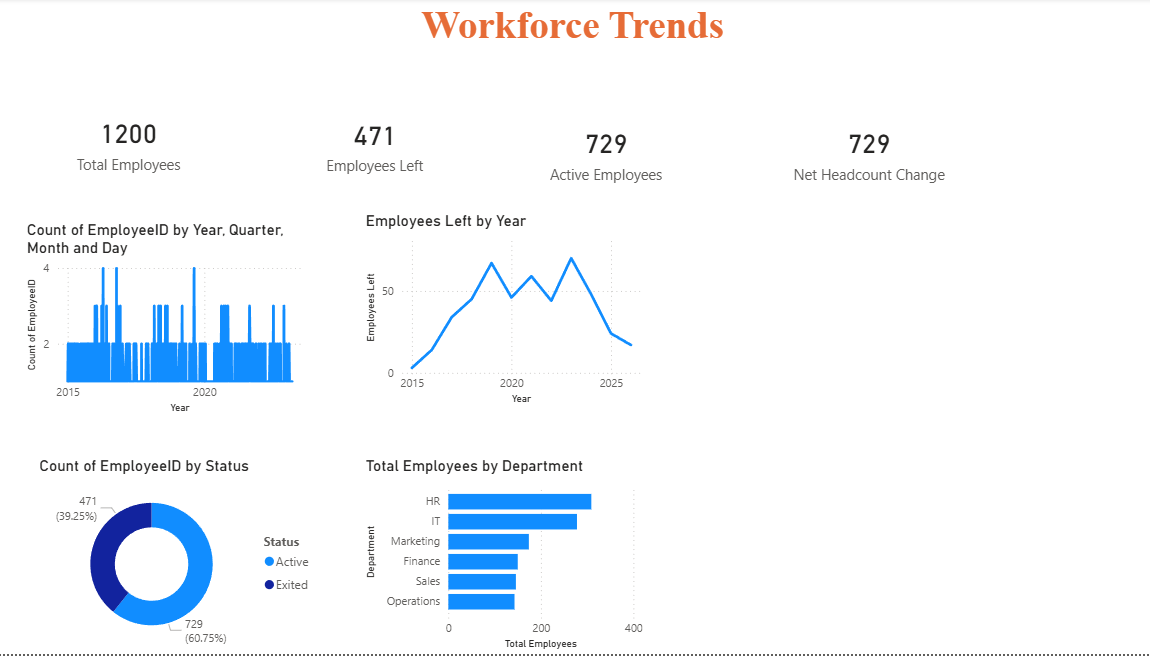

What the dashboard file says about the page in this screenshot:
{"tool":"powerbi","page":{"name":"Page 3","canvas":[1280,720],"ordinal":2},"visuals":[{"type":"textbox","box":[9.6,0,1270.7,71.4],"z":0},{"type":"card","fields":{"Values":["Raw_HR_Data.Total Employees"]},"box":[41.2,83.7,233.3,149.6],"z":1},{"type":"card","fields":{"Values":["Raw_HR_Data.Employees Left"]},"box":[311.5,85.1,233.3,149.6],"z":2},{"type":"card","fields":{"Values":["Raw_HR_Data.Active Employees"]},"box":[569.5,94.7,225,149.6],"z":3},{"type":"card","fields":{"Values":["Raw_HR_Data.Net Headcount Change"]},"box":[867.2,94.7,207.2,149.6],"z":4},{"type":"lineChart","fields":{"Y":["CountNonNull(Raw_HR_Data.EmployeeID)"],"Category":["Raw_HR_Data.HireDate.Variation.Date Hierarchy.Year","Raw_HR_Data.HireDate.Variation.Date Hierarchy.Quarter","Raw_HR_Data.HireDate.Variation.Date Hierarchy.Month","Raw_HR_Data.HireDate.Variation.Date Hierarchy.Day"]},"box":[41.2,244.3,314.2,216.8],"z":5},{"type":"lineChart","fields":{"Category":["Raw_HR_Data.ExitDate.Variation.Date Hierarchy.Year","Raw_HR_Data.ExitDate.Variation.Date Hierarchy.Quarter","Raw_HR_Data.ExitDate.Variation.Date Hierarchy.Month","Raw_HR_Data.ExitDate.Variation.Date Hierarchy.Day"],"Y":["Raw_HR_Data.Employees Left"]},"box":[413,234.6,314.2,216.8],"z":6},{"type":"donutChart","fields":{"Y":["CountNonNull(Raw_HR_Data.EmployeeID)"],"Category":["Raw_HR_Data.Status"]},"box":[54.9,503.6,314.2,216.8],"z":7},{"type":"barChart","fields":{"Category":["Raw_HR_Data.Department"],"Y":["Raw_HR_Data.Total Employees"]},"box":[413,504,314,216],"z":8}]}

Visuals, with their boxes in screenshot pixels (x1, y1, x2, y2), scaled from the page's 1280x720 canvas onto the 1150x657 screenshot:
textbox: l=9, t=0, r=1149, b=65
card - Raw_HR_Data.Total Employees: l=37, t=76, r=247, b=213
card - Raw_HR_Data.Employees Left: l=280, t=78, r=489, b=214
card - Raw_HR_Data.Active Employees: l=512, t=86, r=714, b=223
card - Raw_HR_Data.Net Headcount Change: l=779, t=86, r=965, b=223
lineChart - CountNonNull(Raw_HR_Data.EmployeeID) x Raw_HR_Data.HireDate.Variation.Date Hierarchy.Year: l=37, t=223, r=319, b=421
lineChart - Raw_HR_Data.ExitDate.Variation.Date Hierarchy.Year x Raw_HR_Data.ExitDate.Variation.Date Hierarchy.Quarter: l=371, t=214, r=653, b=412
donutChart - CountNonNull(Raw_HR_Data.EmployeeID) x Raw_HR_Data.Status: l=49, t=460, r=332, b=656
barChart - Raw_HR_Data.Department x Raw_HR_Data.Total Employees: l=371, t=460, r=653, b=656
